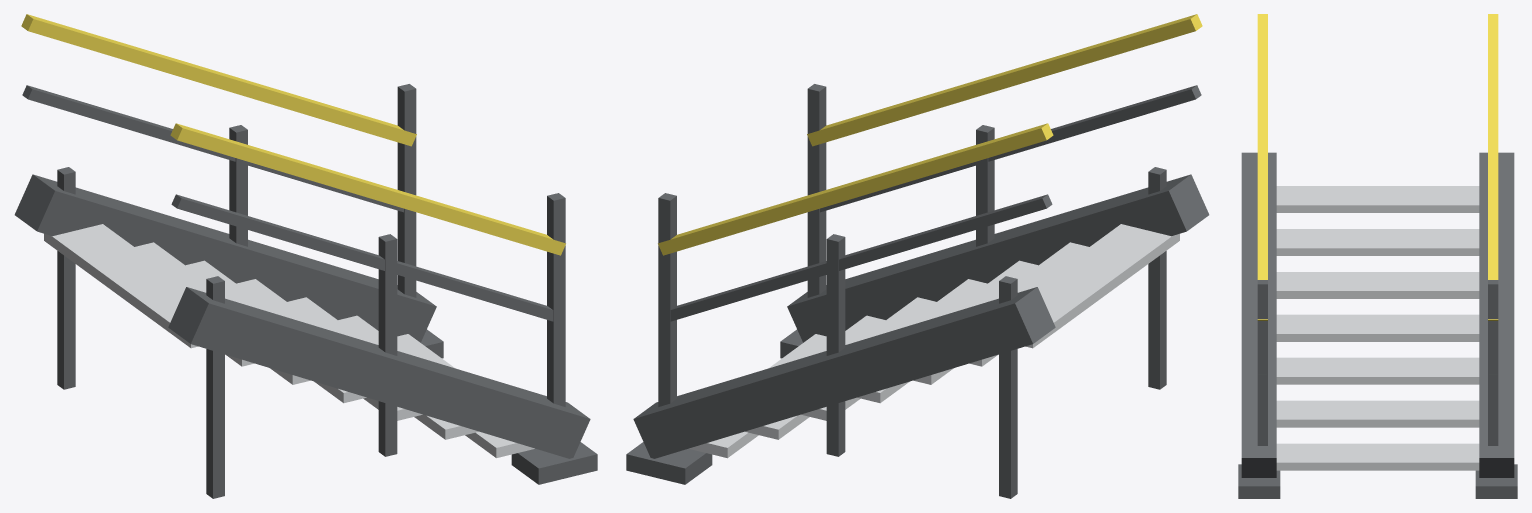
Rendered from recycling-and-waste-transfer-yard-recycling-and-waste--b5ead833__34892.glb.
3 renders of one model, left to right at view 1: azimuth 30°, elevation 25°; view 2: azimuth 150°, elevation 25°; view 3: azimuth 270°, elevation 25°, orthographic. The views are drawn at different scales.
Visible parts, largest first — view 1: recycling-and-waste-transfer-yard-skip-platform-stair; view 2: recycling-and-waste-transfer-yard-skip-platform-stair; view 3: recycling-and-waste-transfer-yard-skip-platform-stair.
Part boxes in pixels (box(x1,y1,x2,y2)): recycling-and-waste-transfer-yard-skip-platform-stair: box(14, 14, 597, 498); recycling-and-waste-transfer-yard-skip-platform-stair: box(626, 14, 1209, 498); recycling-and-waste-transfer-yard-skip-platform-stair: box(1238, 14, 1517, 498).
Size of the model in its own units: 2.08 by 2.11 by 1.6.
